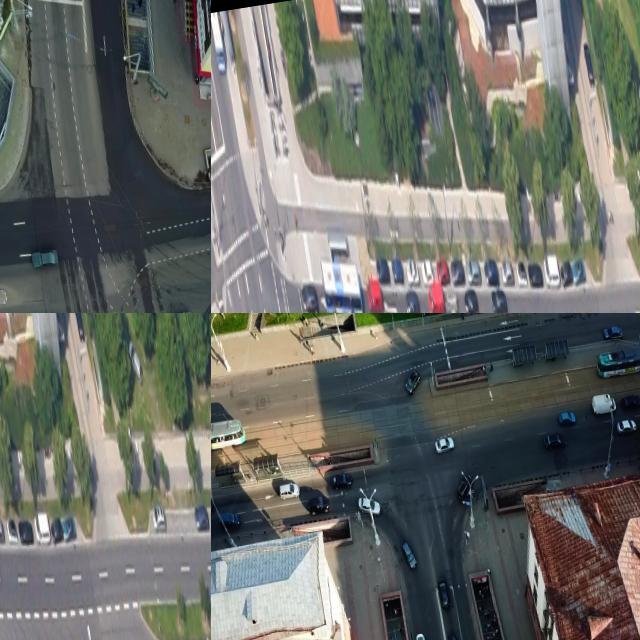UAI: (126, 337, 145, 387), (30, 246, 60, 271), (364, 277, 384, 313), (454, 473, 476, 505), (542, 254, 561, 288), (33, 511, 52, 545), (357, 494, 382, 519), (426, 283, 446, 313), (482, 256, 500, 288), (402, 369, 423, 396), (300, 282, 318, 312), (401, 540, 418, 571), (307, 494, 332, 515), (583, 43, 595, 86), (489, 286, 508, 313), (465, 256, 482, 286), (435, 256, 451, 287), (193, 503, 210, 532), (450, 257, 466, 287), (150, 502, 166, 532), (217, 509, 241, 529), (437, 576, 451, 610), (543, 431, 568, 450), (527, 262, 544, 289), (404, 257, 420, 285), (462, 287, 479, 313), (17, 519, 34, 545), (434, 435, 456, 455), (331, 471, 354, 490), (571, 258, 587, 285), (61, 515, 77, 542), (420, 256, 434, 286), (391, 256, 405, 286), (50, 515, 65, 543), (279, 481, 301, 500), (403, 289, 420, 313), (375, 256, 390, 283), (616, 417, 638, 435), (515, 259, 528, 288), (72, 313, 85, 342), (560, 260, 573, 287), (500, 261, 514, 285), (603, 325, 624, 341), (6, 516, 18, 543), (621, 393, 640, 410), (558, 411, 577, 428), (445, 290, 459, 313), (635, 80, 640, 130), (0, 515, 5, 542), (415, 632, 431, 640)
car: (318, 252, 365, 313), (594, 343, 640, 378), (211, 418, 247, 454)
harvester: (591, 392, 618, 416)
